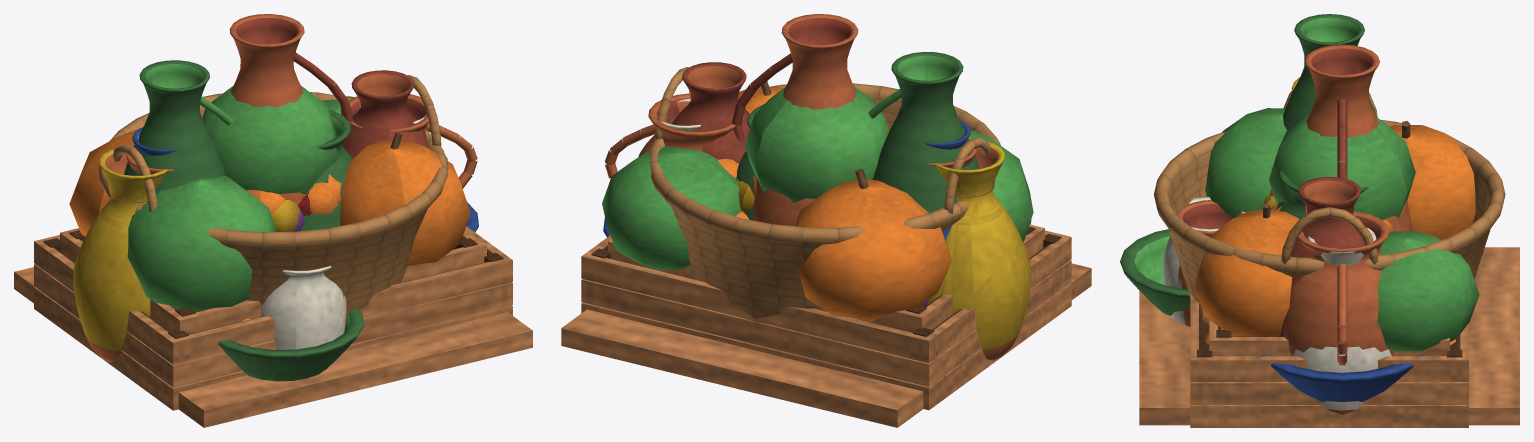
Rendered from fruit-vases.glb.
The picture shows the model from 3 angles, left to right: view 1: azimuth 30°, elevation 25°; view 2: azimuth 150°, elevation 25°; view 3: azimuth 270°, elevation 25°; orthographic projection. The views are drawn at different scales.
Parts seen in each view (by area): view 1: inst_goods_crate_melons, inst_goods_r_basket, inst_goods_pots_mixed, inst_goods_pyr_apples, inst_goods_pots_terra, inst_goods_pots_green, inst_goods_pots_blue, inst_goods_crate_apples, inst_goods_crate_oranges, inst_goods_crate_lemons, inst_goods_pyr_oranges; view 2: inst_goods_crate_melons, inst_goods_r_basket, inst_goods_pyr_apples, inst_goods_pots_mixed, inst_goods_pots_terra, inst_goods_pots_green, inst_goods_crate_apples, inst_goods_pots_blue; view 3: inst_goods_crate_melons, inst_goods_pyr_apples, inst_goods_r_basket, inst_goods_pots_terra, inst_goods_pots_mixed, inst_goods_pots_green, inst_goods_pots_blue, inst_goods_crate_apples.
Part boxes in pixels (left/top/right/bottom): inst_goods_crate_melons: left=34, top=86, right=512, bottom=410; inst_goods_r_basket: left=98, top=75, right=448, bottom=311; inst_goods_pots_mixed: left=73, top=94, right=443, bottom=381; inst_goods_pyr_apples: left=14, top=267, right=532, bottom=427; inst_goods_pots_terra: left=126, top=14, right=426, bottom=329; inst_goods_pots_green: left=124, top=60, right=477, bottom=231; inst_goods_pots_blue: left=132, top=127, right=478, bottom=361; inst_goods_crate_apples: left=60, top=191, right=486, bottom=334; inst_goods_crate_oranges: left=304, top=182, right=338, bottom=214; inst_goods_crate_lemons: left=271, top=200, right=300, bottom=231; inst_goods_pyr_oranges: left=242, top=174, right=341, bottom=321; inst_goods_crate_melons: left=581, top=81, right=1071, bottom=410; inst_goods_r_basket: left=649, top=67, right=1000, bottom=323; inst_goods_pyr_apples: left=561, top=263, right=1091, bottom=427; inst_goods_pots_mixed: left=638, top=93, right=1031, bottom=360; inst_goods_pots_terra: left=671, top=14, right=976, bottom=226; inst_goods_pots_green: left=605, top=52, right=979, bottom=220; inst_goods_crate_apples: left=608, top=224, right=1044, bottom=332; inst_goods_pots_blue: left=603, top=120, right=970, bottom=240; inst_goods_crate_melons: left=1190, top=108, right=1479, bottom=427; inst_goods_pyr_apples: left=1139, top=247, right=1519, bottom=425; inst_goods_r_basket: left=1154, top=90, right=1505, bottom=324; inst_goods_pots_terra: left=1178, top=44, right=1412, bottom=336; inst_goods_pots_mixed: left=1120, top=77, right=1394, bottom=356; inst_goods_pots_green: left=1276, top=14, right=1391, bottom=414; inst_goods_pots_blue: left=1163, top=197, right=1423, bottom=401; inst_goods_crate_apples: left=1209, top=320, right=1449, bottom=356.
Size of the model in its own units: 0.732 by 0.4956 by 0.6305.
Materials: 4 (4 with a texture image).
